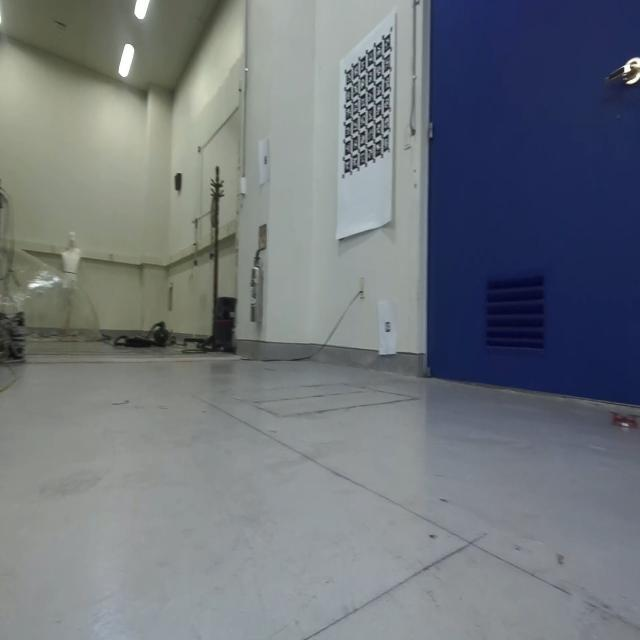crazyflie: (609, 408, 639, 433)
